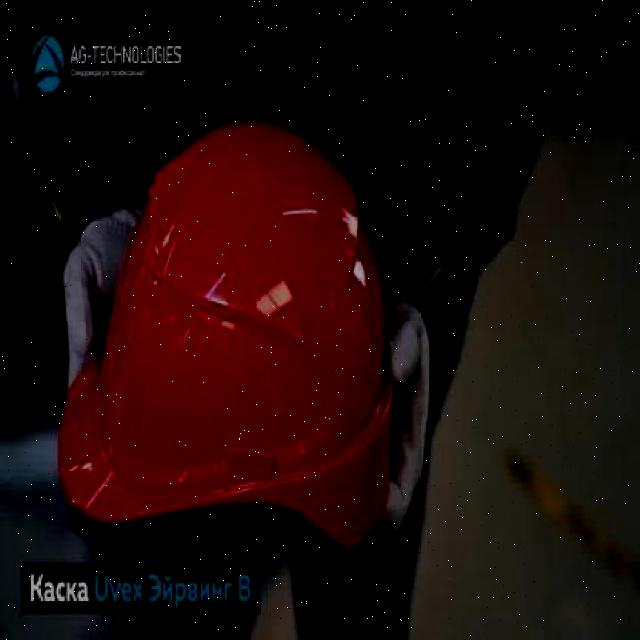Gloves: (50, 186, 150, 405), (372, 286, 434, 543)
Helmet: (56, 115, 395, 558)
